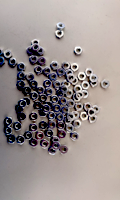nut: (7, 135, 17, 144), (18, 112, 27, 122), (24, 131, 34, 140), (30, 138, 39, 148), (30, 123, 39, 133), (60, 145, 69, 155), (71, 131, 80, 141), (87, 108, 96, 118), (53, 80, 62, 90), (89, 79, 99, 88), (4, 117, 13, 126), (14, 122, 23, 131), (30, 112, 39, 121), (39, 121, 48, 130), (52, 142, 61, 151), (58, 130, 67, 139), (57, 122, 66, 131), (66, 124, 75, 133), (56, 113, 65, 122), (101, 80, 110, 89), (71, 111, 80, 120), (89, 114, 98, 123), (84, 103, 93, 112), (74, 47, 83, 56), (9, 58, 18, 67), (17, 71, 26, 80), (17, 80, 26, 89), (36, 47, 45, 56), (38, 57, 47, 66), (18, 100, 27, 109), (39, 94, 48, 103), (61, 106, 70, 115), (59, 97, 68, 106), (51, 95, 60, 104), (49, 73, 58, 82), (60, 85, 69, 94), (56, 89, 65, 98), (65, 89, 74, 98), (81, 90, 90, 99), (90, 74, 99, 83), (82, 81, 91, 90), (78, 72, 87, 81), (17, 135, 25, 145), (41, 139, 49, 149), (46, 129, 54, 139), (4, 50, 12, 60), (43, 104, 51, 114), (66, 100, 76, 108), (36, 132, 45, 140), (49, 146, 57, 155), (49, 121, 57, 130), (74, 120, 82, 129), (65, 116, 73, 125), (67, 113, 76, 121), (81, 112, 89, 121), (93, 105, 101, 114), (75, 103, 84, 111), (57, 23, 66, 31), (18, 62, 26, 71), (27, 73, 35, 82), (35, 66, 43, 75), (30, 55, 38, 64), (27, 46, 35, 55), (32, 39, 40, 48), (43, 67, 51, 76), (24, 86, 32, 95), (16, 104, 24, 113), (31, 92, 39, 101), (34, 102, 43, 110), (53, 105, 62, 113), (45, 102, 54, 110), (45, 88, 54, 96), (30, 80, 38, 89), (44, 79, 52, 88), (57, 68, 65, 77), (62, 62, 71, 70), (71, 63, 79, 72), (74, 85, 83, 93), (86, 69, 95, 77), (5, 127, 13, 135), (52, 137, 60, 145), (48, 112, 56, 120), (56, 30, 64, 38), (32, 44, 40, 52), (51, 62, 59, 70), (23, 98, 31, 106), (39, 109, 47, 117), (37, 86, 45, 94), (68, 74, 76, 82), (73, 94, 81, 102), (71, 77, 79, 85), (77, 91, 84, 100), (66, 69, 73, 77), (63, 80, 71, 87), (0, 57, 5, 66), (0, 48, 3, 56)
